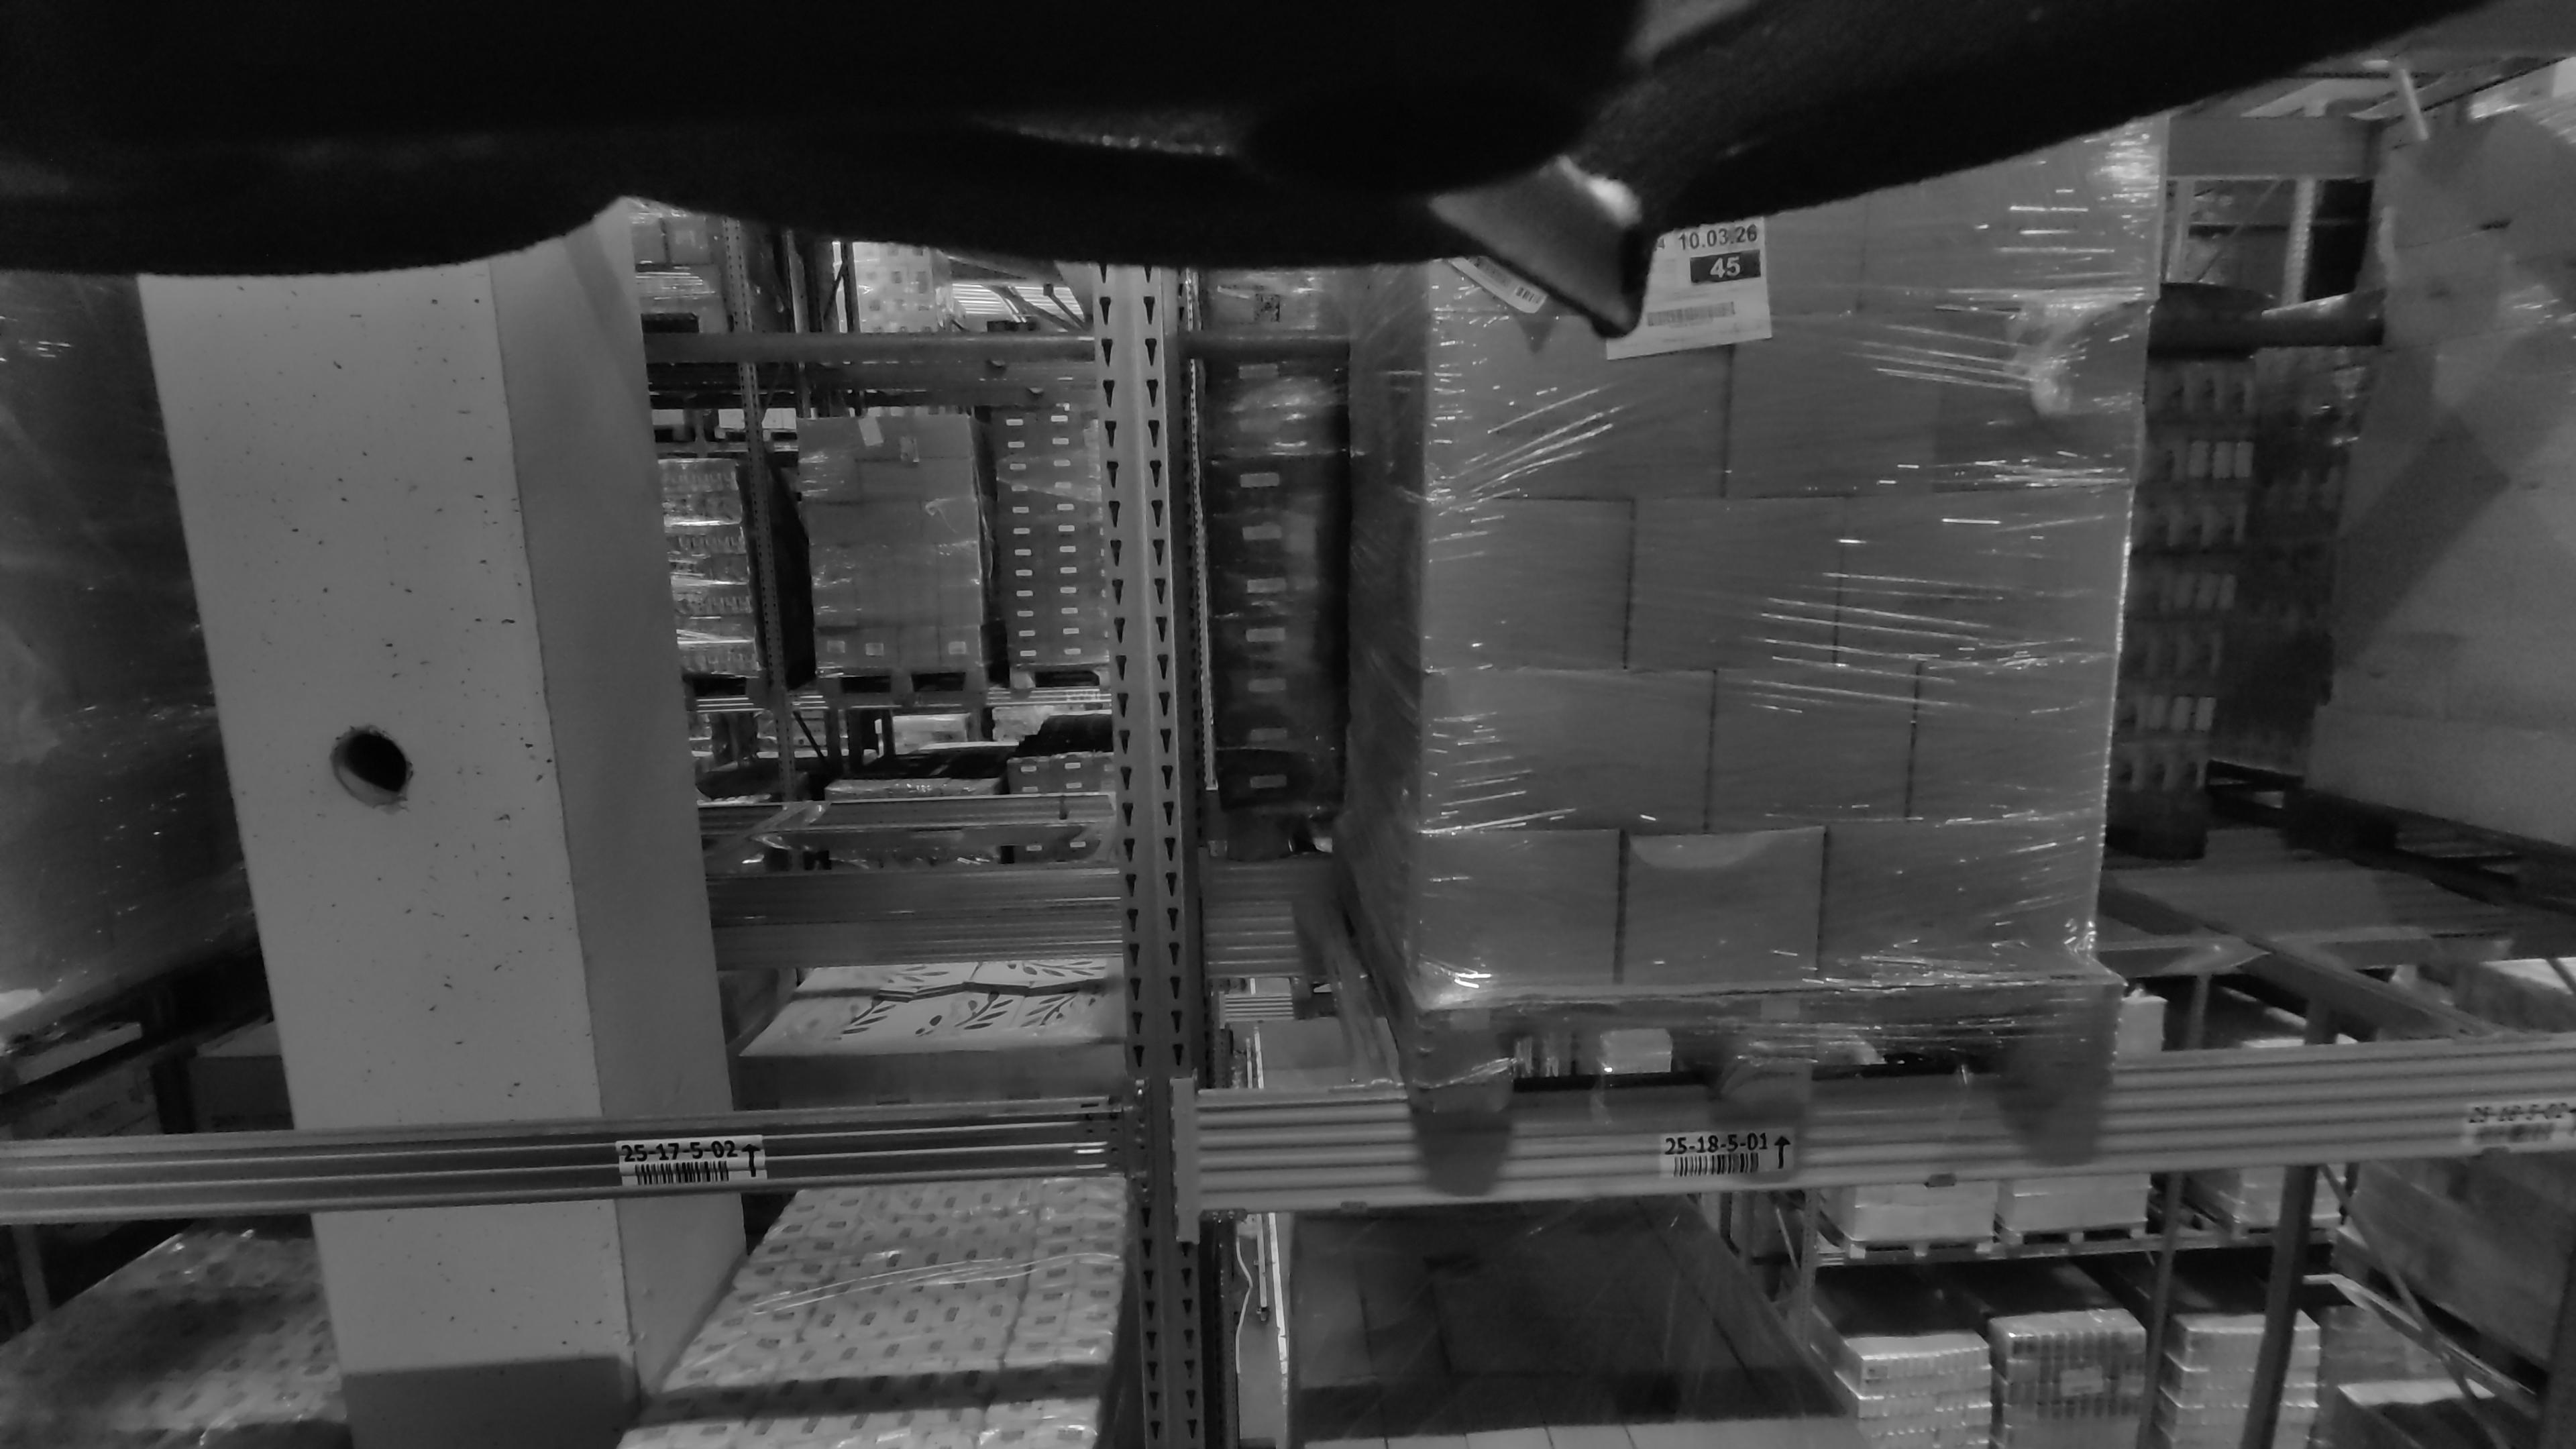empty-shelf: (2206, 41, 2576, 1047), (697, 195, 1083, 1076), (736, 189, 1145, 858)
